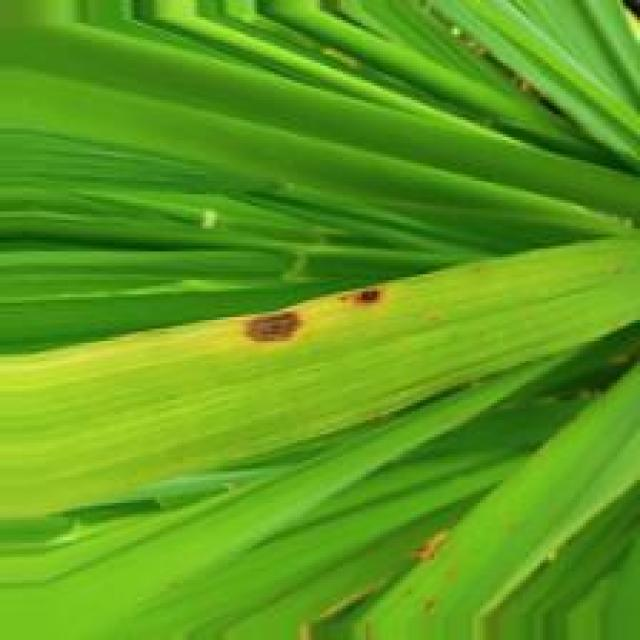Brown_Spot: (235, 305, 318, 345), (329, 283, 394, 308)
